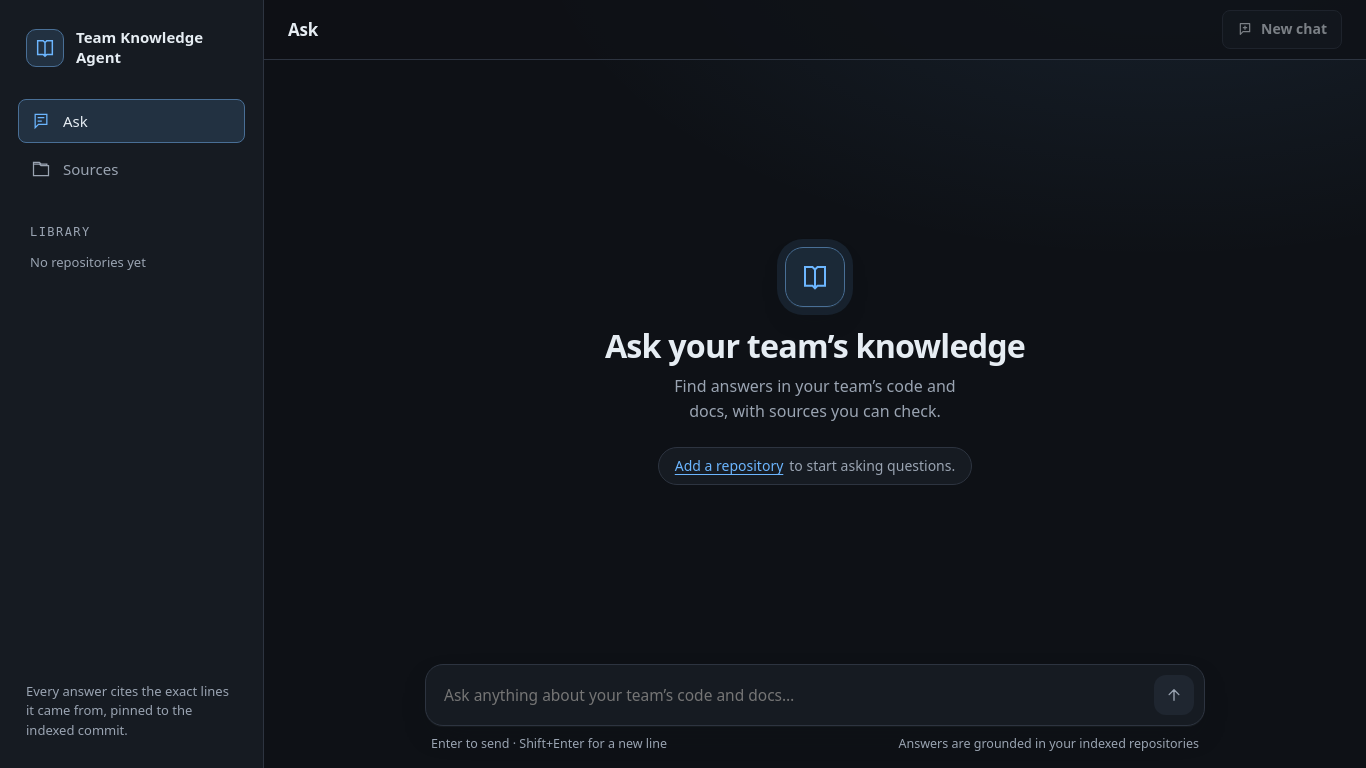
Test: application shell › navigates exactly Ask and Sources by pointer, loading sources from the API
The width and height of the screenshot is (1366, 768).
Click the link "Sources": (132, 169) top-left (18, 147), bottom-right (245, 191)
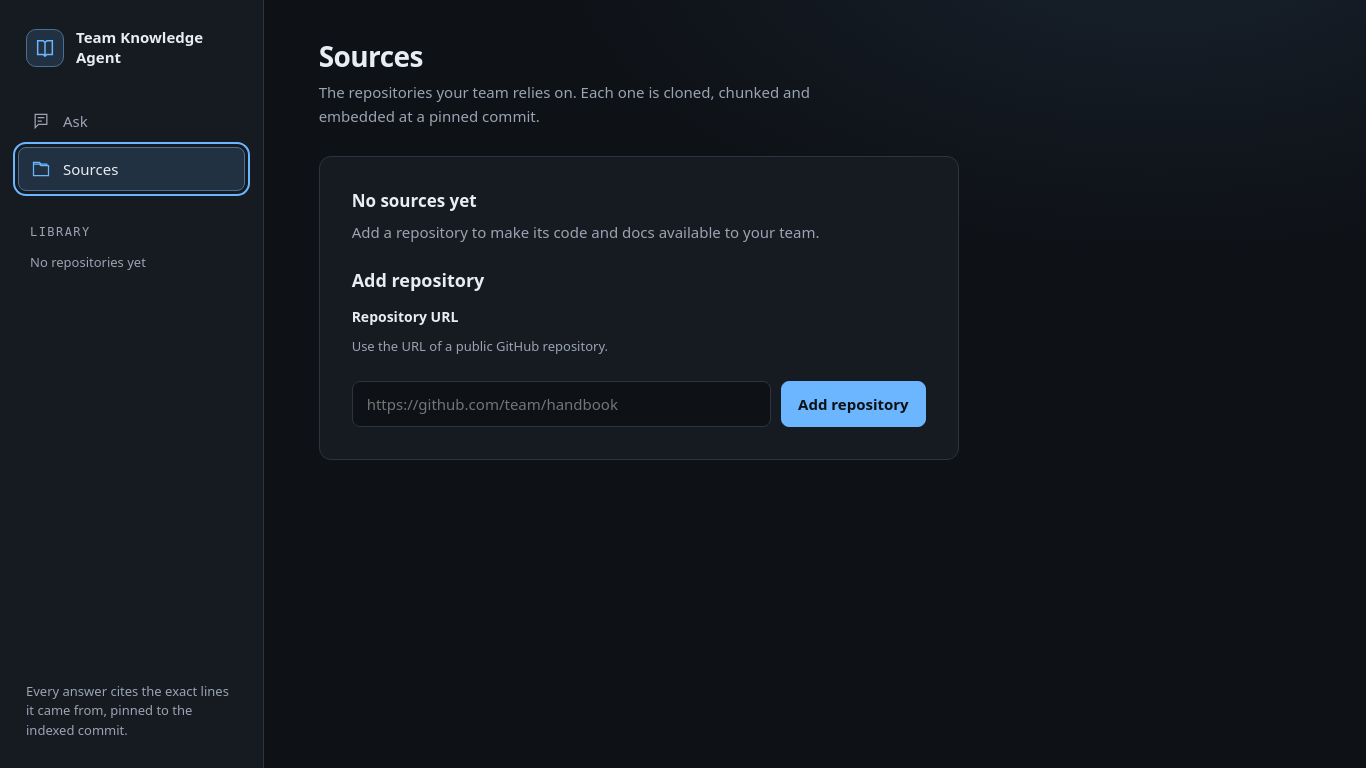
Expected: the heading "Sources" is shown, top-left (319, 37), bottom-right (423, 75)
Expected: the heading "No sources yet" is shown, top-left (352, 189), bottom-right (477, 212)
Click the link "Ask": (132, 121) top-left (18, 99), bottom-right (245, 143)
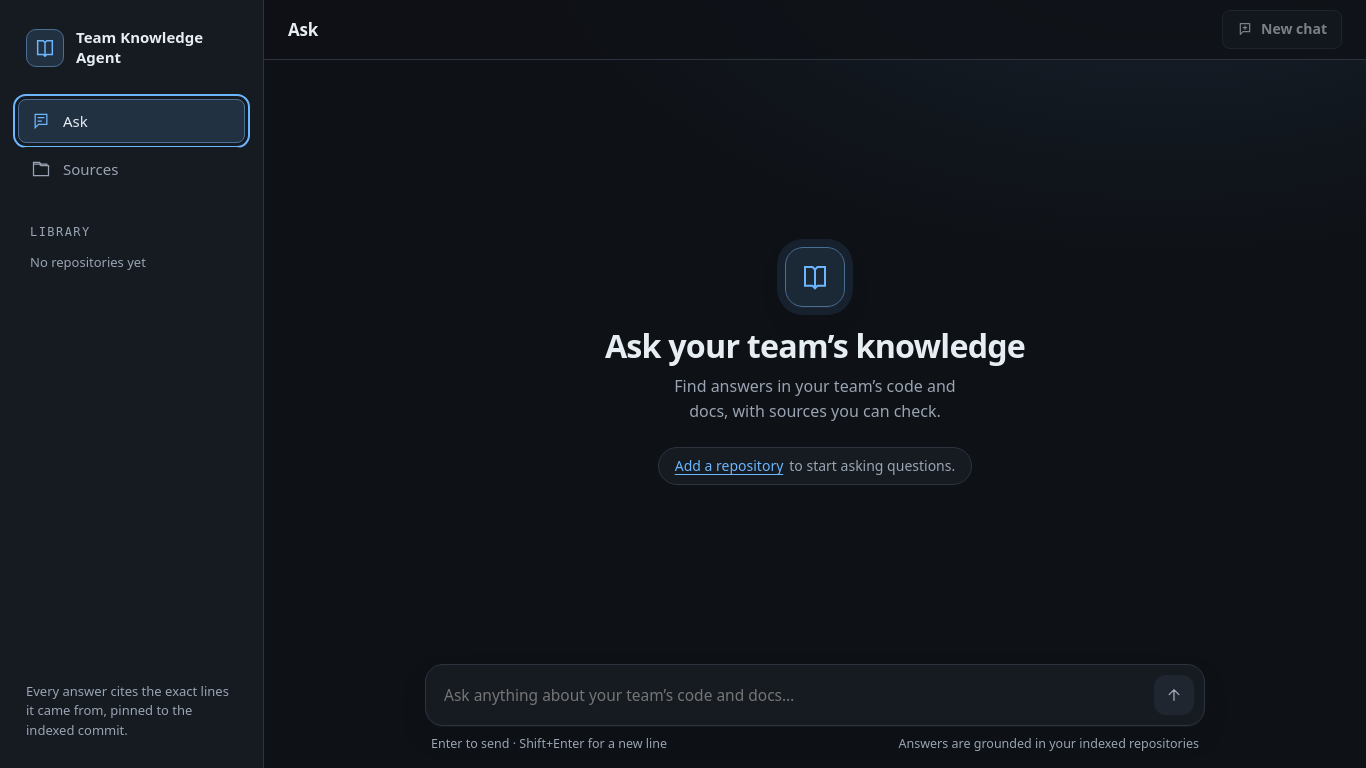
Expected: the heading "Ask" is shown, top-left (288, 16), bottom-right (318, 43)
